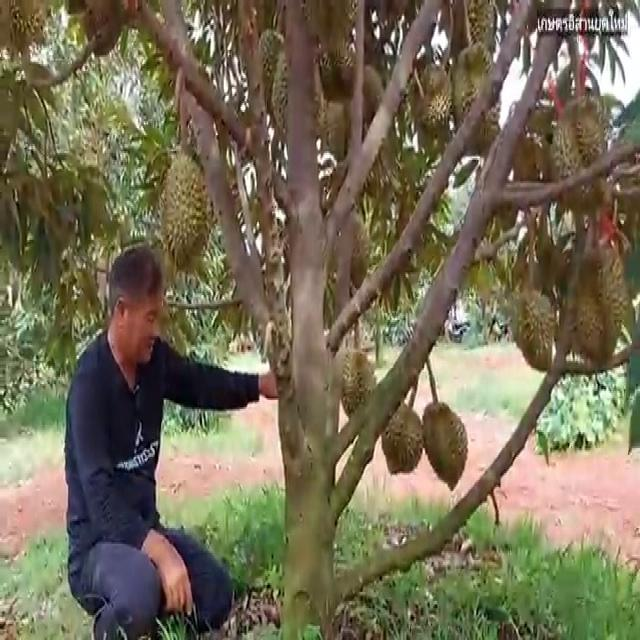durian: (156, 145, 216, 277), (549, 93, 612, 214), (573, 238, 629, 372), (266, 28, 327, 141), (450, 35, 503, 158), (420, 391, 470, 496), (333, 343, 382, 435), (380, 391, 427, 484), (511, 288, 557, 381), (412, 52, 455, 142), (250, 23, 292, 112)
